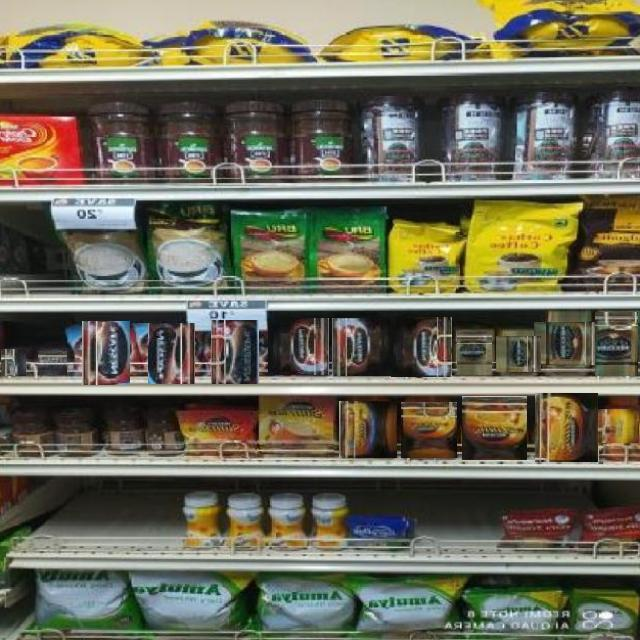Coffee: (257, 397, 334, 456), (535, 393, 598, 462), (462, 396, 527, 460), (392, 316, 452, 377), (268, 317, 329, 375), (332, 318, 391, 376), (339, 402, 397, 458), (185, 412, 255, 457), (401, 402, 457, 458), (82, 321, 130, 385), (211, 320, 259, 384), (149, 322, 195, 384), (535, 322, 600, 365), (595, 311, 638, 376), (497, 335, 541, 372), (456, 330, 492, 375), (593, 410, 640, 443), (37, 351, 67, 375), (1, 349, 26, 376)
